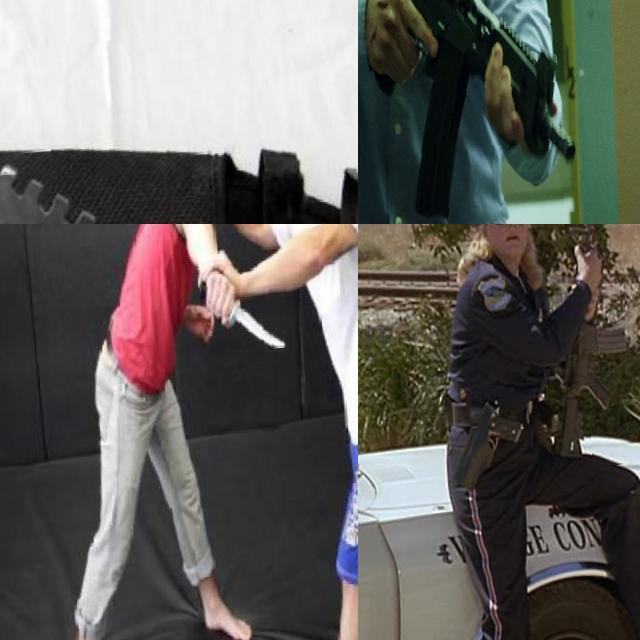-: (0, 22, 358, 224), (188, 266, 286, 372)
gun-knife-thesis - v11 Yolov5 augmented: (358, 0, 569, 224), (520, 224, 638, 478)
